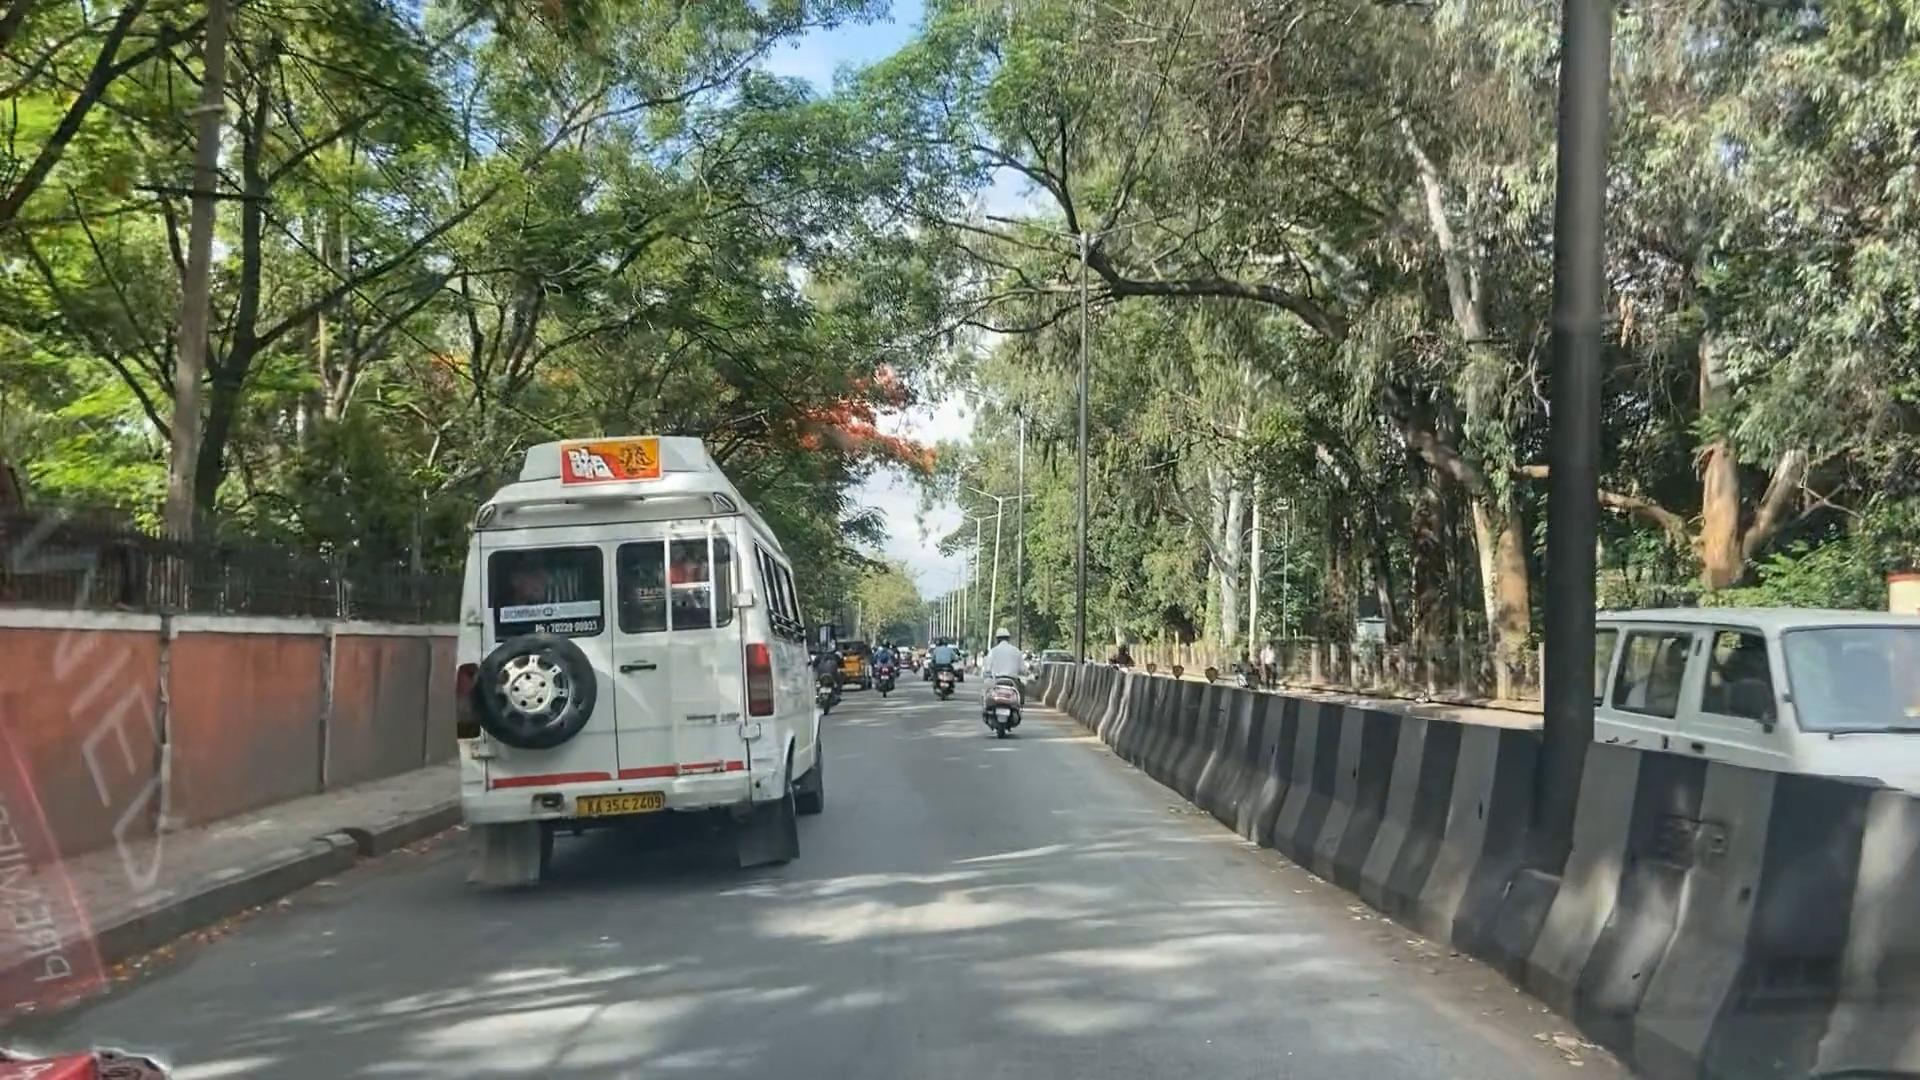HMV: (451, 469, 779, 839)
LMV: (990, 630, 1035, 735), (932, 626, 959, 698)
